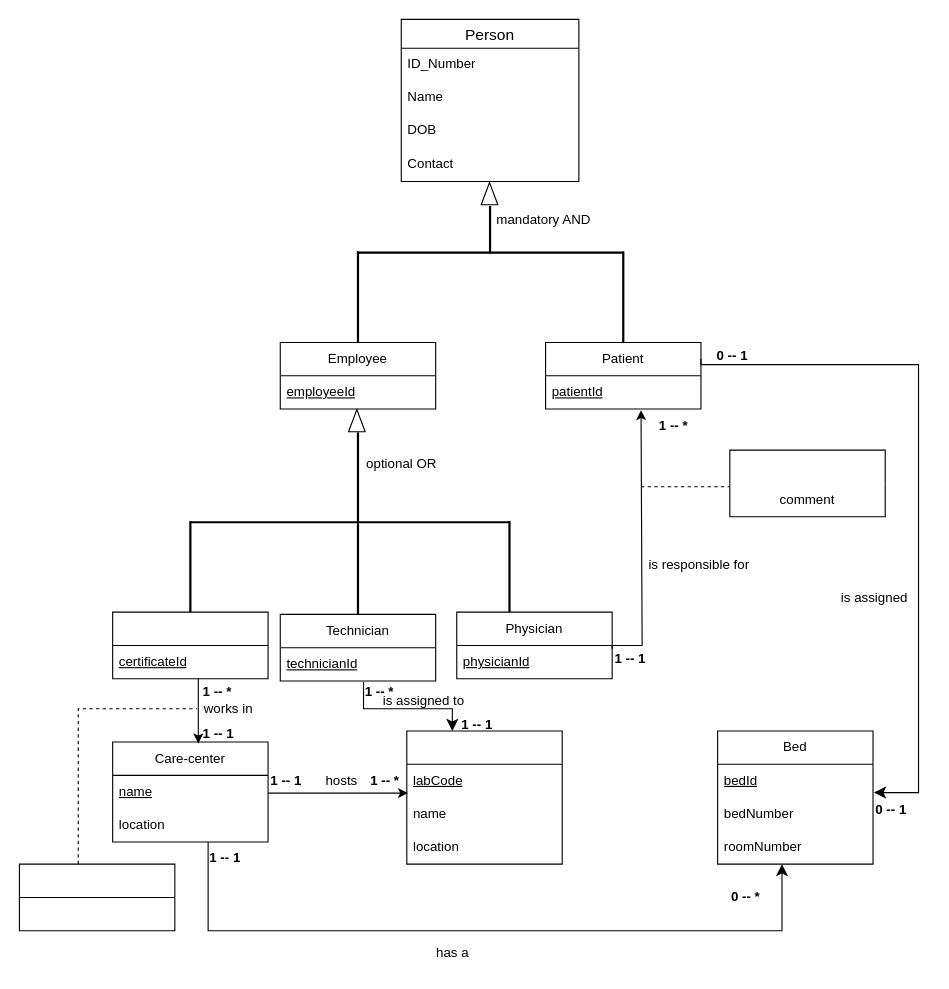
Some shapes in this 949 by 989 pixel diagram are drawn without their labels. Here are the shapes that lost their labels. From the top down, the box of each, then its label:
(729, 449, 885, 517): date
(112, 611, 268, 679): Nurse
(406, 730, 562, 864): Laboratory
(18, 863, 175, 931): nurseInCharge
